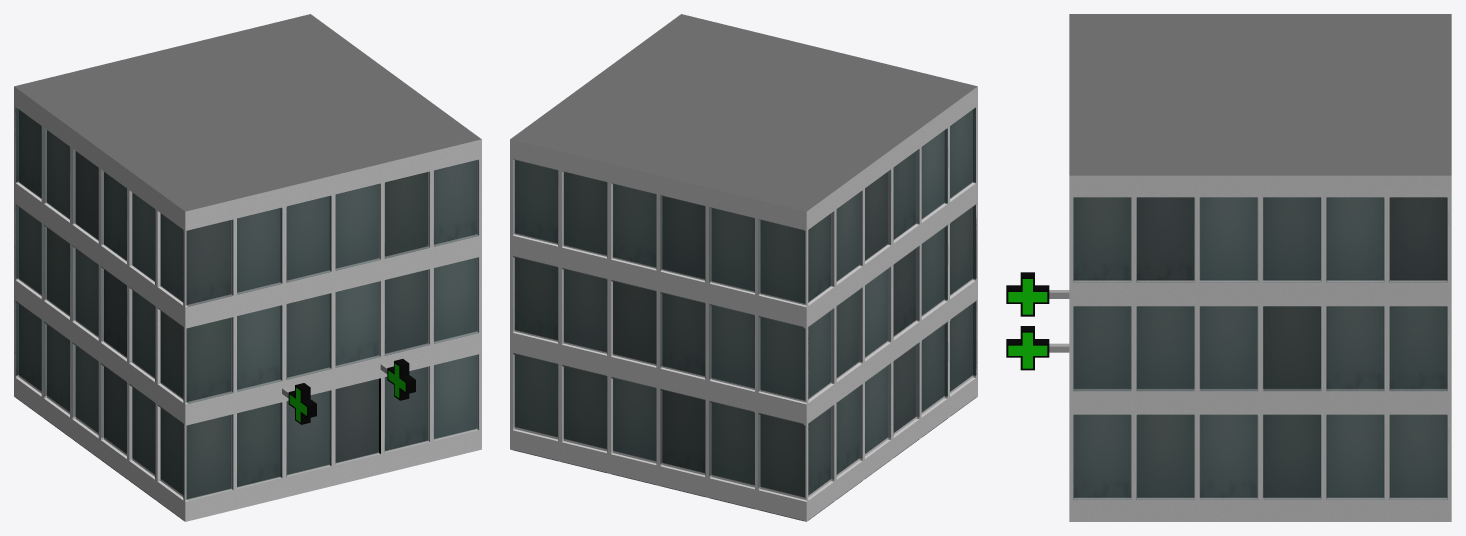
The model's file is Building apotheek.fbx.
3 renders of one model, left to right at view 1: azimuth 30°, elevation 25°; view 2: azimuth 150°, elevation 25°; view 3: azimuth 270°, elevation 25°, orthographic. The views are drawn at different scales.
Visible parts, largest first — view 1: Cube, Cube.002, Cube.003; view 2: Cube; view 3: Cube, Cube.002, Cube.003.
Boxes of the visible parts, bbox=[...] form: Cube: bbox=[14, 14, 481, 521]; Cube.002: bbox=[288, 383, 316, 424]; Cube.003: bbox=[387, 359, 415, 400]; Cube: bbox=[510, 14, 977, 521]; Cube: bbox=[1069, 14, 1451, 521]; Cube.002: bbox=[1006, 272, 1049, 316]; Cube.003: bbox=[1006, 326, 1049, 370].
Bounding box in the file's own units: 1000 × 1000 × 1164.
Materials: 9 (1 with a texture image).
